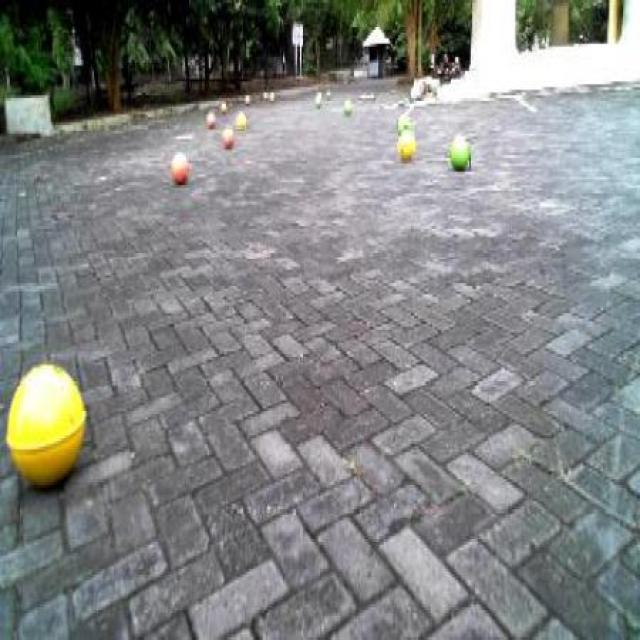buoy: (1, 348, 91, 504), (446, 130, 474, 180), (393, 126, 419, 168), (169, 148, 191, 188), (218, 122, 237, 150), (394, 110, 412, 134)
